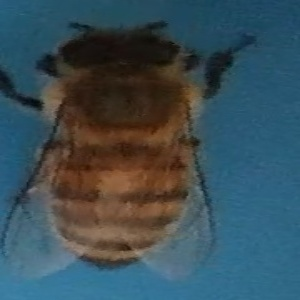bee: (13, 13, 262, 288)
